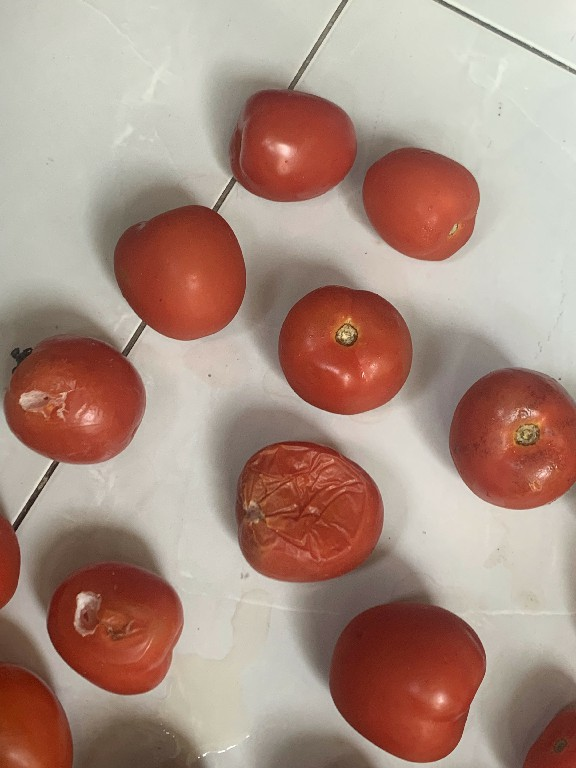NG: (226, 431, 386, 588), (4, 324, 159, 472), (40, 558, 191, 700)
OK: (328, 599, 486, 765), (440, 362, 576, 516), (114, 199, 257, 344), (275, 277, 416, 417), (225, 82, 361, 207), (362, 136, 479, 268)
